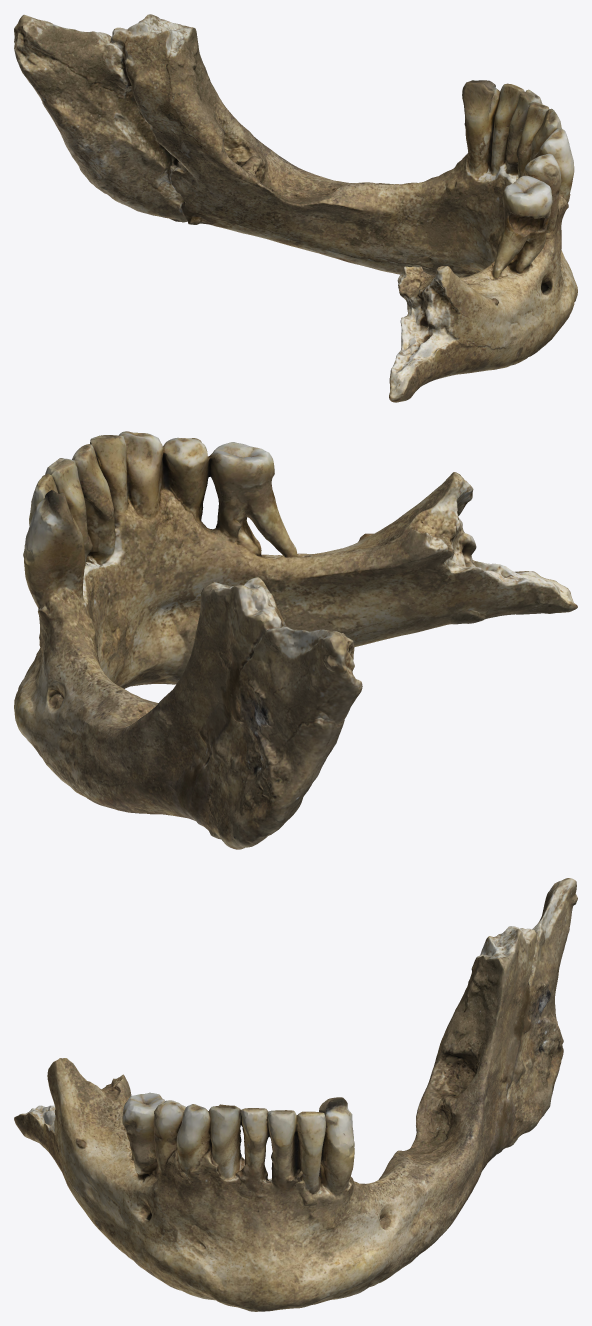
Rendered from asset.glb.
The picture shows the model from 3 angles, top to bottom: view 1: azimuth 30°, elevation 25°; view 2: azimuth 150°, elevation 25°; view 3: azimuth 270°, elevation 25°; orthographic projection. The views are drawn at different scales.
Visible parts, largest first — view 1: ITEM2; view 2: ITEM2; view 3: ITEM2.
Part boxes in pixels (x1,y1,x2,y2): ITEM2: (14, 14, 577, 402); ITEM2: (14, 431, 577, 849); ITEM2: (14, 878, 577, 1311).
Size of the model in its own units: 3.04 by 1.92 by 3.79.
Materials: 1 (1 with a texture image).
